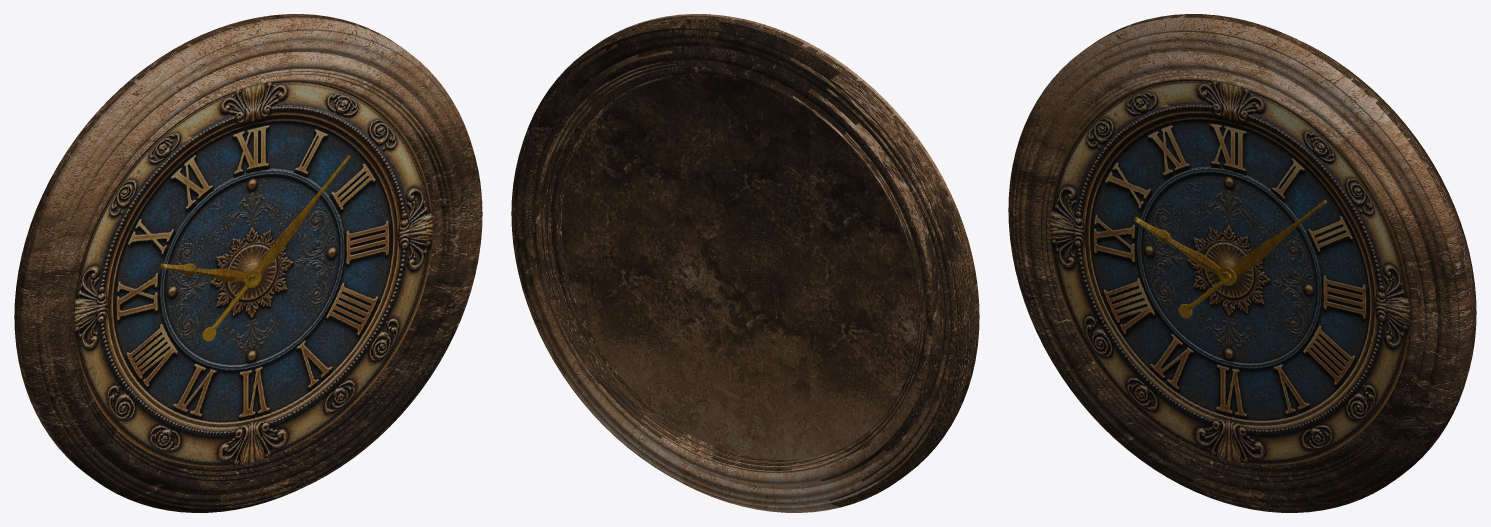
3 renders of one model, left to right at view 1: azimuth 30°, elevation 25°; view 2: azimuth 150°, elevation 25°; view 3: azimuth 330°, elevation 25°, orthographic.
Visible parts, largest first — view 1: Circle001, Cl_044, Cl_045, Line001, Cylinder006; view 2: Cl_045, Cl_044; view 3: Circle001, Cl_044, Cl_045, Line001, Cylinder006.
Boxes of the visible parts, left/top/right/bottom form: Circle001: left=74, top=80, right=432, bottom=466; Cl_044: left=16, top=16, right=482, bottom=512; Cl_045: left=14, top=14, right=401, bottom=474; Line001: left=202, top=155, right=350, bottom=341; Cylinder006: left=159, top=263, right=261, bottom=287; Cl_045: left=511, top=15, right=977, bottom=512; Cl_044: left=592, top=14, right=979, bottom=475; Circle001: left=1050, top=79, right=1409, bottom=465; Cl_044: left=1008, top=15, right=1472, bottom=512; Cl_045: left=1087, top=14, right=1476, bottom=471; Line001: left=1178, top=200, right=1326, bottom=318; Cylinder006: left=1134, top=216, right=1236, bottom=285.
Bounding box in the file's own units: 0.4077 × 0.4077 × 0.0405.
Materials: 3 (3 with a texture image).
